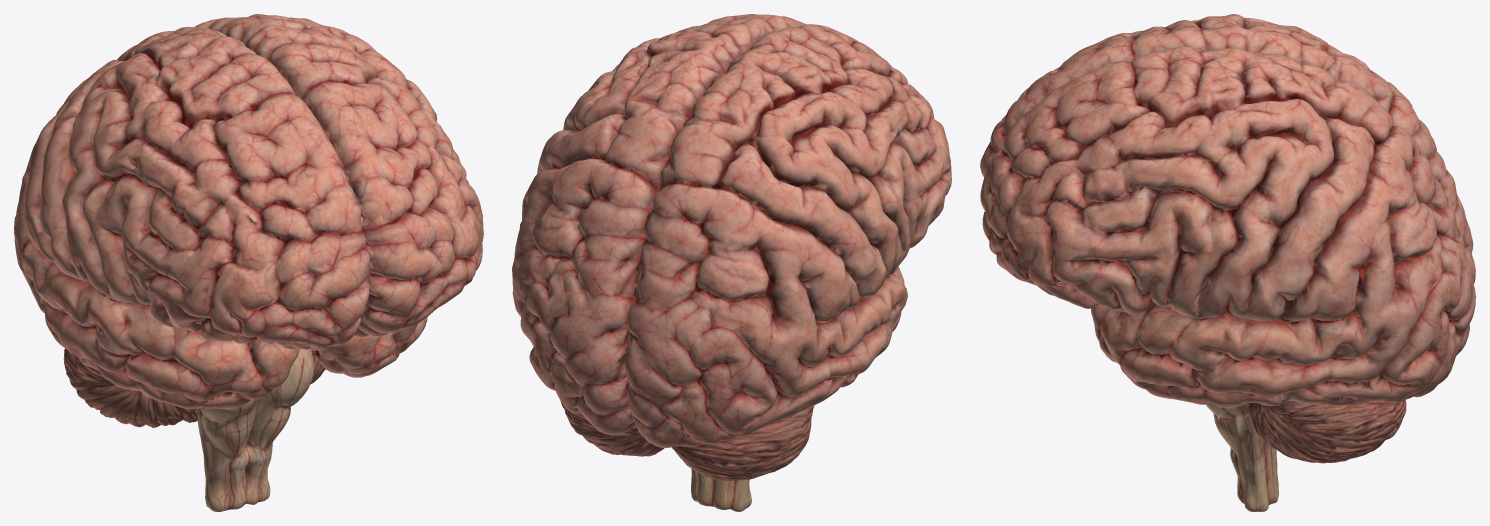
Rendered from brain-3d.glb.
3 renders of one model, left to right at view 1: azimuth 30°, elevation 25°; view 2: azimuth 150°, elevation 25°; view 3: azimuth 270°, elevation 25°, orthographic. The views are drawn at different scales.
Size of the model in its own units: 1.49 by 1.9 by 1.85.
Materials: 1 (1 with a texture image).
